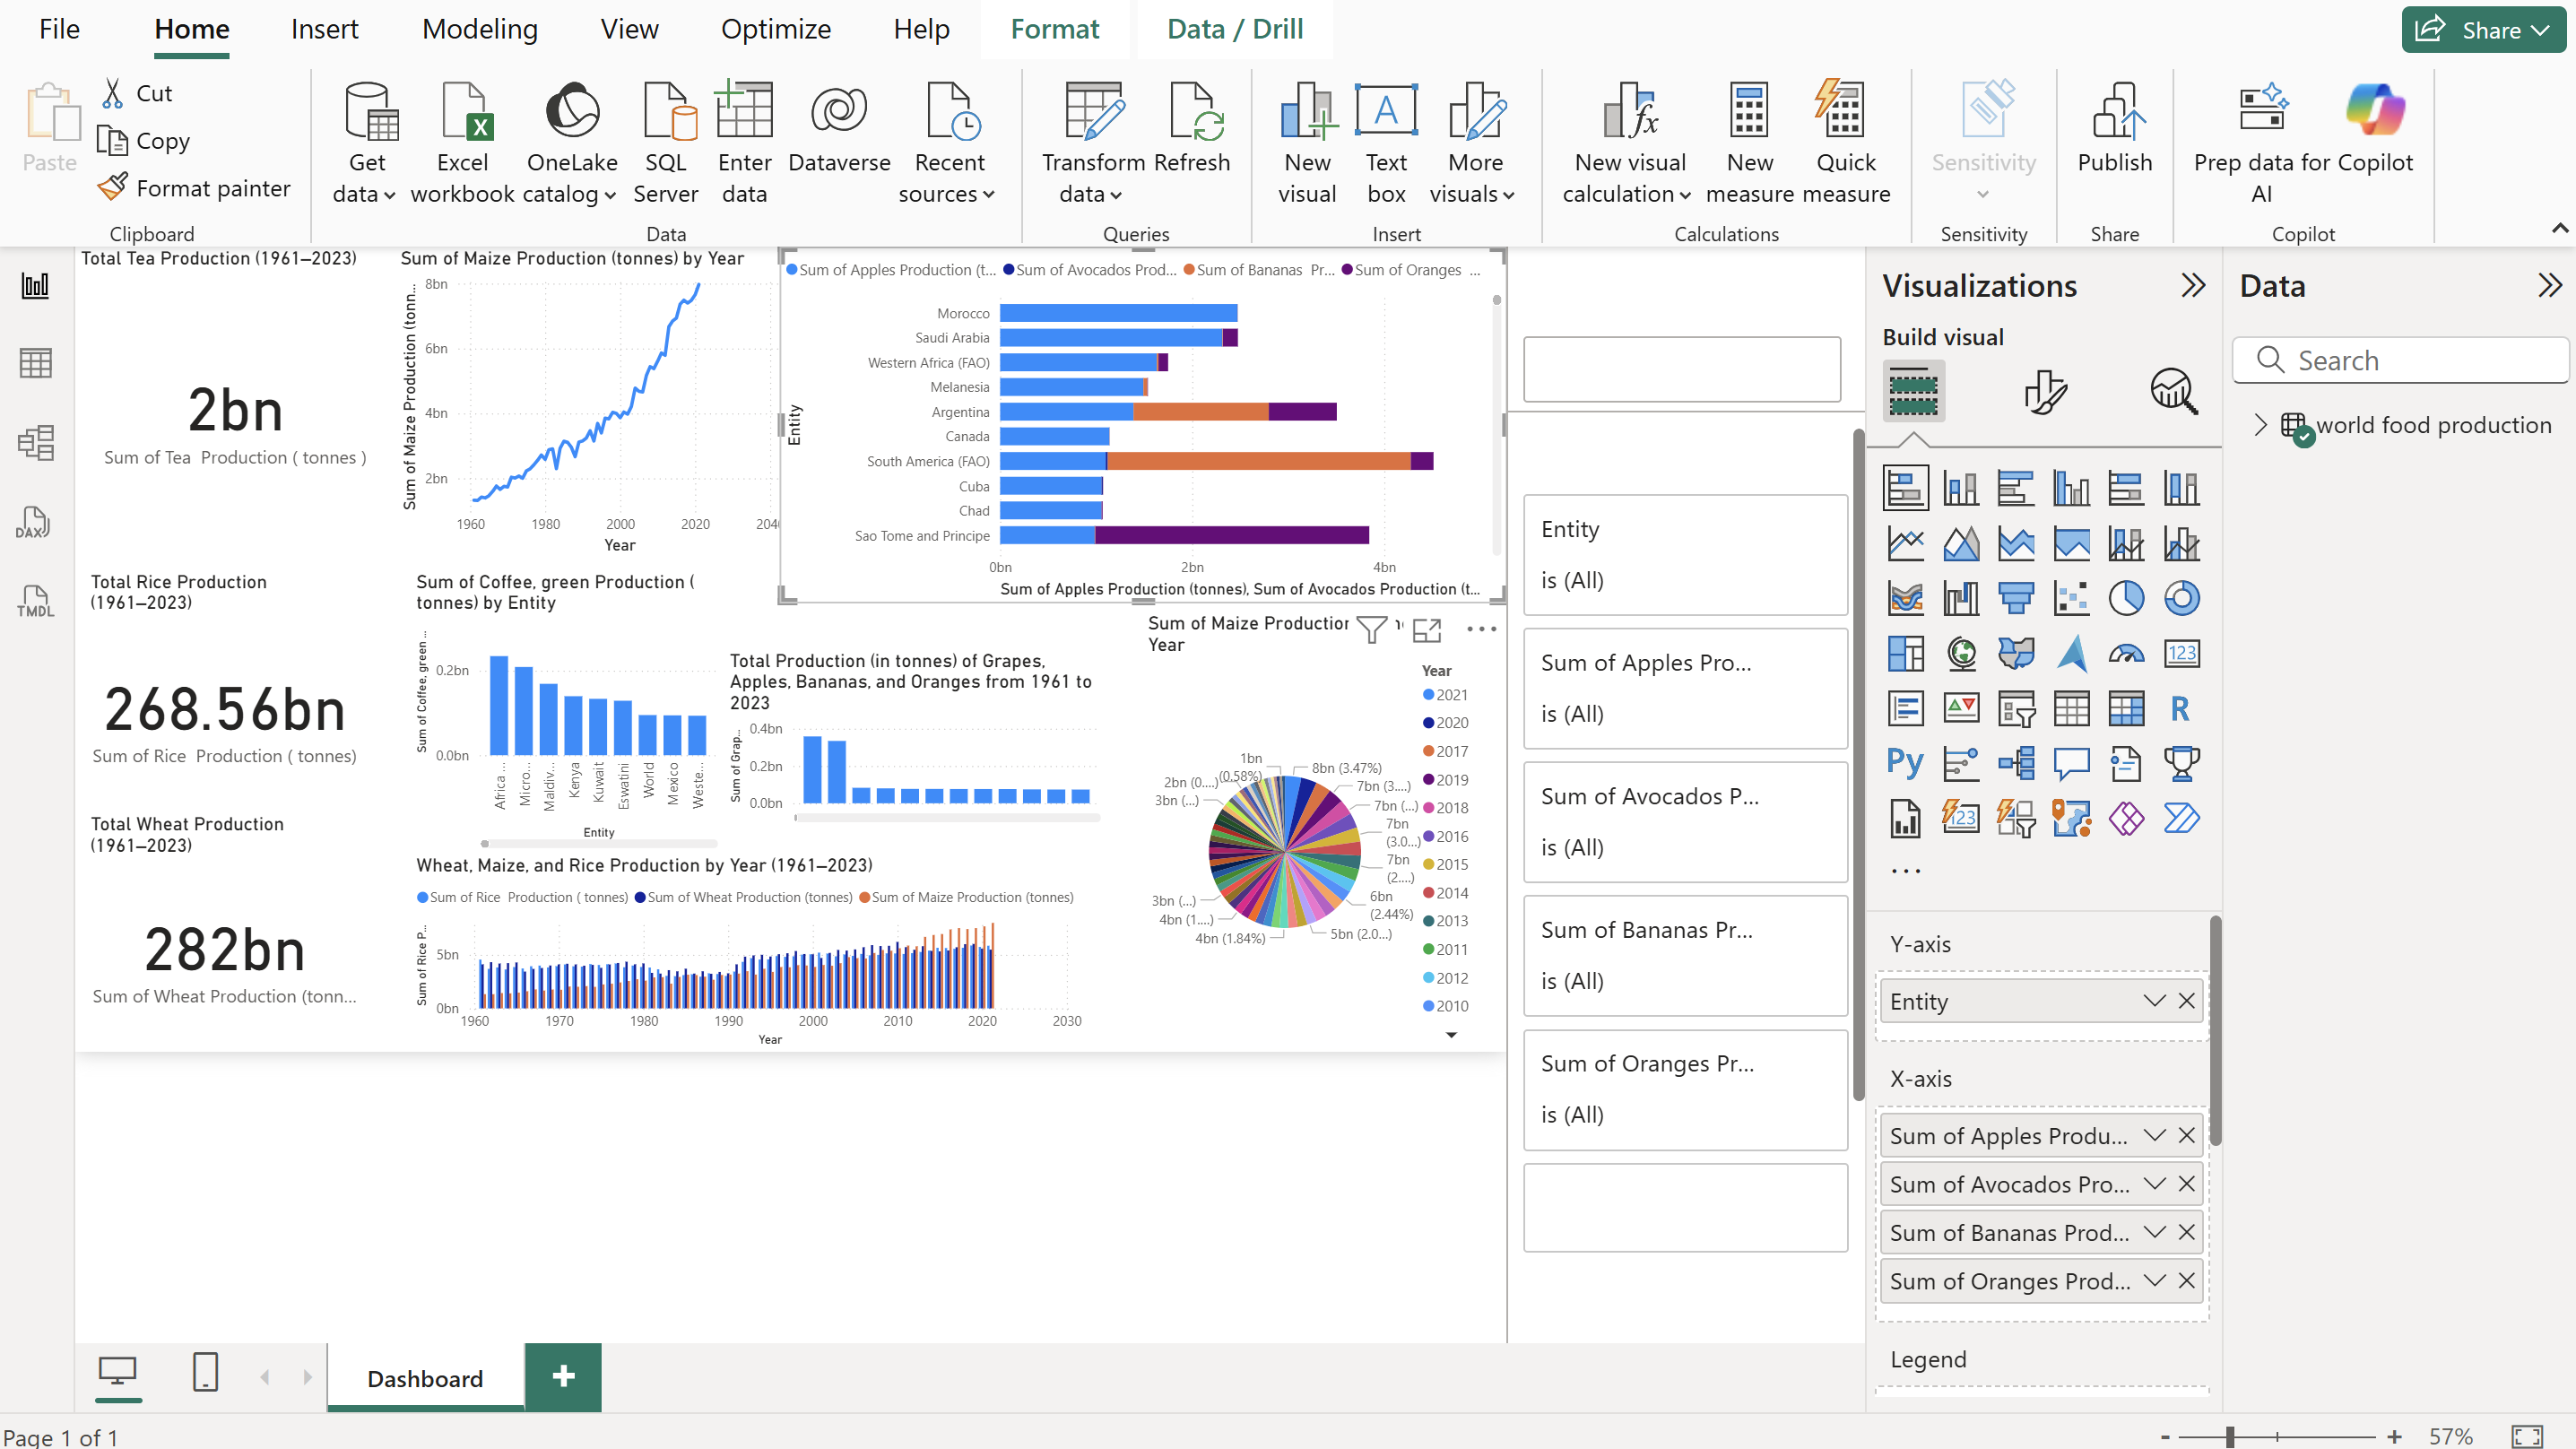

The dashboard page shown, as its layout file describes it:
{"tool":"powerbi","page":{"name":"Dashboard","canvas":[1280,720],"ordinal":0},"visuals":[{"type":"lineChart","fields":{"Y":["Sum(world food production.Maize Production (tonnes))"],"Category":["world food production.Year"]},"box":[286.4,0,353.7,279.7],"z":0},{"type":"card","title":"Total Rice Production (1961–2023)","fields":{"Values":["Sum(world food production.Rice  Production ( tonnes))"]},"box":[9.6,289.5,249.7,216.8],"z":1000},{"type":"card","title":"Total Wheat Production (1961–2023)","fields":{"Values":["Sum(world food production.Wheat Production (tonnes))"]},"box":[9.6,506.3,249.7,212.7],"z":2000},{"type":"card","title":"Total Tea Production (1961–2023)","fields":{"Values":["Sum(world food production.Tea  Production ( tonnes ))"]},"box":[0,0,286.4,279.7],"z":3000},{"type":"lineClusteredColumnComboChart","fields":{"Category":["world food production.Entity"],"Y":["Sum(world food production.Coffee, green Production ( tonnes))"]},"box":[300.5,289.5,279.9,253.9],"z":4000},{"type":"lineClusteredColumnComboChart","title":"Wheat, Maize, and Rice Production by Year (1961–2023)","fields":{"Category":["world food production.Year"],"Y":["Sum(world food production.Rice  Production ( tonnes))","Sum(world food production.Wheat Production (tonnes))","Sum(world food production.Maize Production (tonnes))"]},"box":[300.5,543.4,606.5,177],"z":5000},{"type":"barChart","fields":{"Category":["world food production.Entity"],"Y":["Sum(world food production.Apples Production (tonnes))","Sum(world food production.Avocados Production (tonnes))","Sum(world food production.Bananas  Production ( tonnes))","Sum(world food production.Oranges  Production (tonnes))"]},"box":[629.4,0,650.9,318.7],"z":6000},{"type":"pieChart","fields":{"Category":["world food production.Year"],"Y":["Sum(world food production.Maize Production (tonnes))"]},"box":[954,326,306,392],"z":7000},{"type":"clusteredColumnChart","title":"Total Production (in tonnes) of Grapes, Apples, Bananas, and Oranges from 1961 to 2023","fields":{"Y":["Sum(world food production.Grapes  Production (tonnes))"],"Category":["world food production.Apples Production (tonnes)","world food production.Bananas  Production ( tonnes)","world food production.Oranges  Production (tonnes)"]},"box":[580,360,342,160],"z":8000}]}

Visuals, with their boxes on the page's 1280x720 design canvas (x1, y1, x2, y2). These are canvas units, not pixel positions in the 2576x1449 screenshot, which may show the page scaled, cropped or inside an application window:
lineChart - Sum(world food production.Maize Production (tonnes)) x world food production.Year: 286/0/640/280
"Total Rice Production (1961–2023)" card: 10/290/259/506
"Total Wheat Production (1961–2023)" card: 10/506/259/719
"Total Tea Production (1961–2023)" card: 0/0/286/280
lineClusteredColumnComboChart - world food production.Entity x Sum(world food production.Coffee, green Production ( tonnes)): 300/290/580/543
"Wheat, Maize, and Rice Production by Year (1961–2023)" lineClusteredColumnComboChart: 300/543/907/720
barChart - world food production.Entity x Sum(world food production.Apples Production (tonnes)): 629/0/1280/319
pieChart - world food production.Year x Sum(world food production.Maize Production (tonnes)): 954/326/1260/718
"Total Production (in tonnes) of Grapes, Apples, Bananas, and Oranges from 1961 to 2023" clusteredColumnChart: 580/360/922/520
